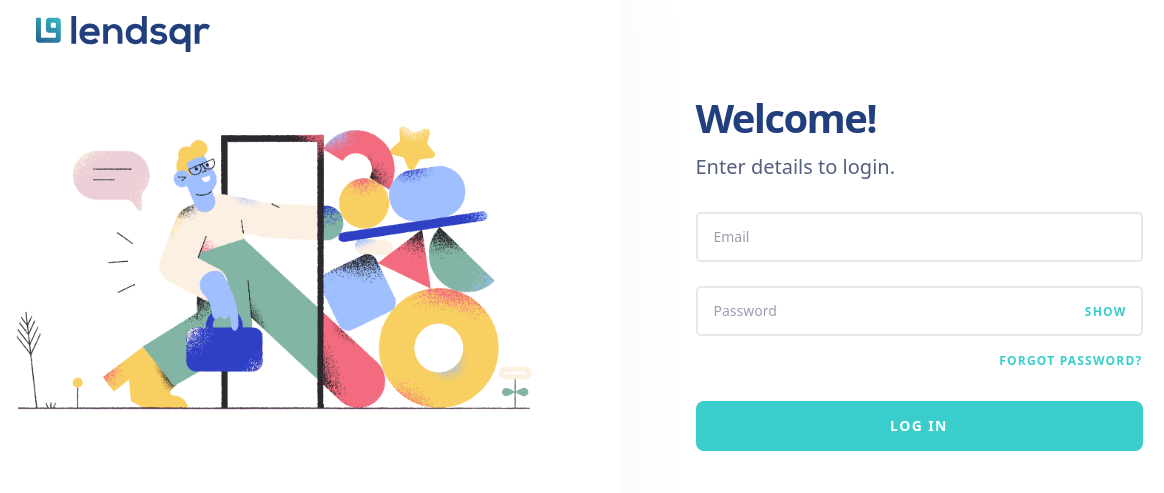
Test: Login › shows validation errors when submitting an empty form
Click the button "LOG IN" at {"x": 919, "y": 426}, box [696, 400, 1142, 450]
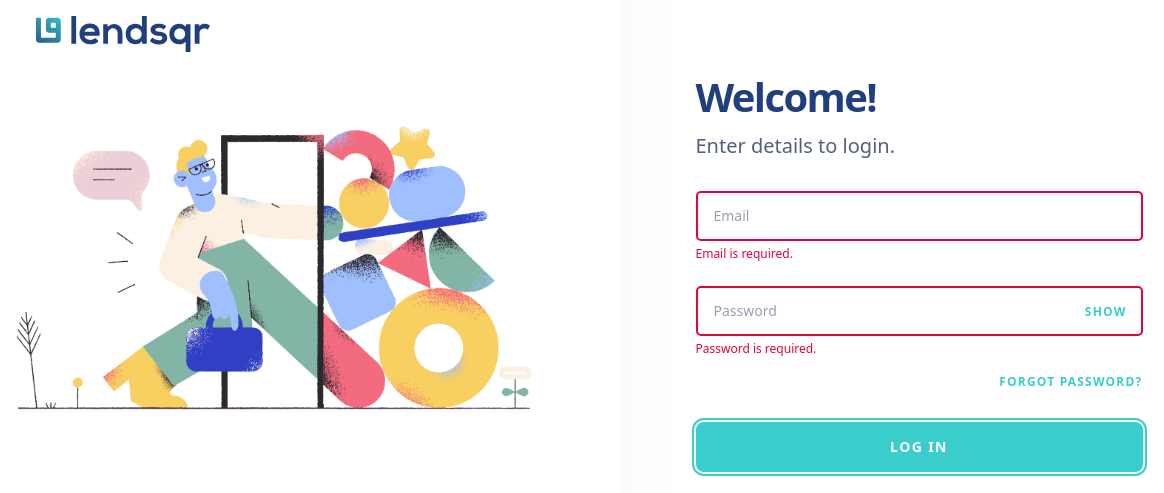
Check: the text "Email is required." is shown, box [696, 244, 793, 262]
Check: the text "Password is required." is shown, box [696, 340, 816, 356]
